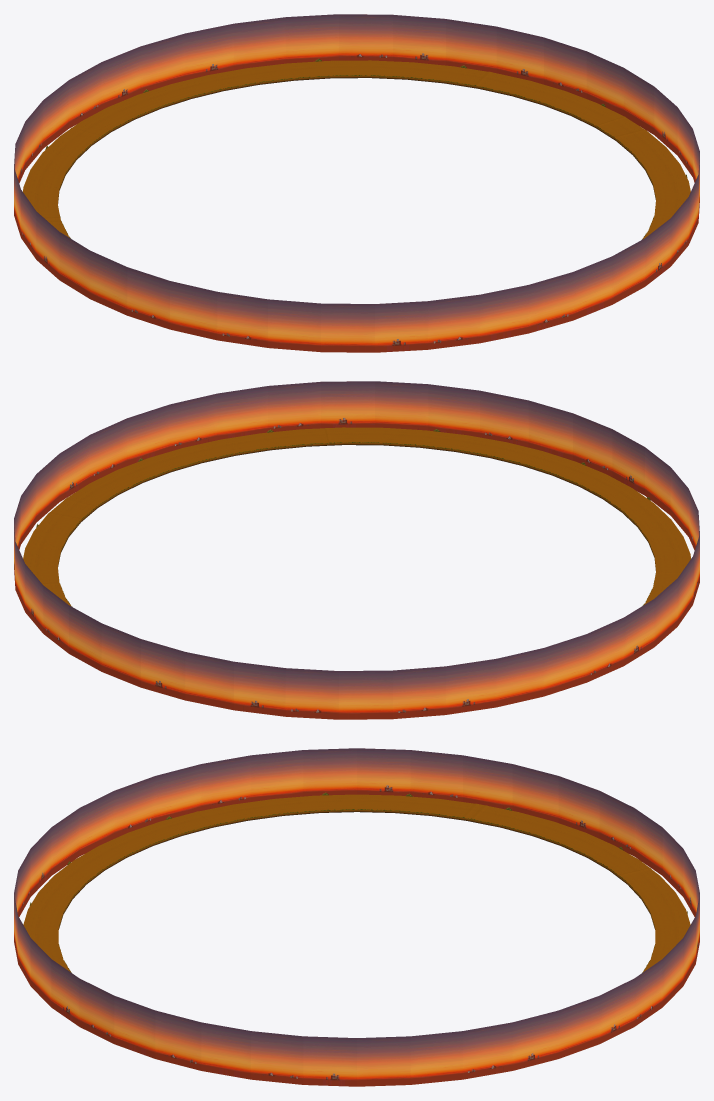
The model's file is StaffRollTrue-StaffRoll.glb.
3 renders of one model, top to bottom at view 1: azimuth 30°, elevation 25°; view 2: azimuth 150°, elevation 25°; view 3: azimuth 270°, elevation 25°, orthographic.
Visible parts, largest first — view 1: StaffRoll; view 2: StaffRoll; view 3: StaffRoll.
Part boxes in pixels (x1,y1,x2,y2): StaffRoll: (14,14,699,352); StaffRoll: (14,381,699,719); StaffRoll: (14,748,699,1086).
Size of the model in its own units: 136 by 10.62 by 136.
5 materials, 5 textured.
